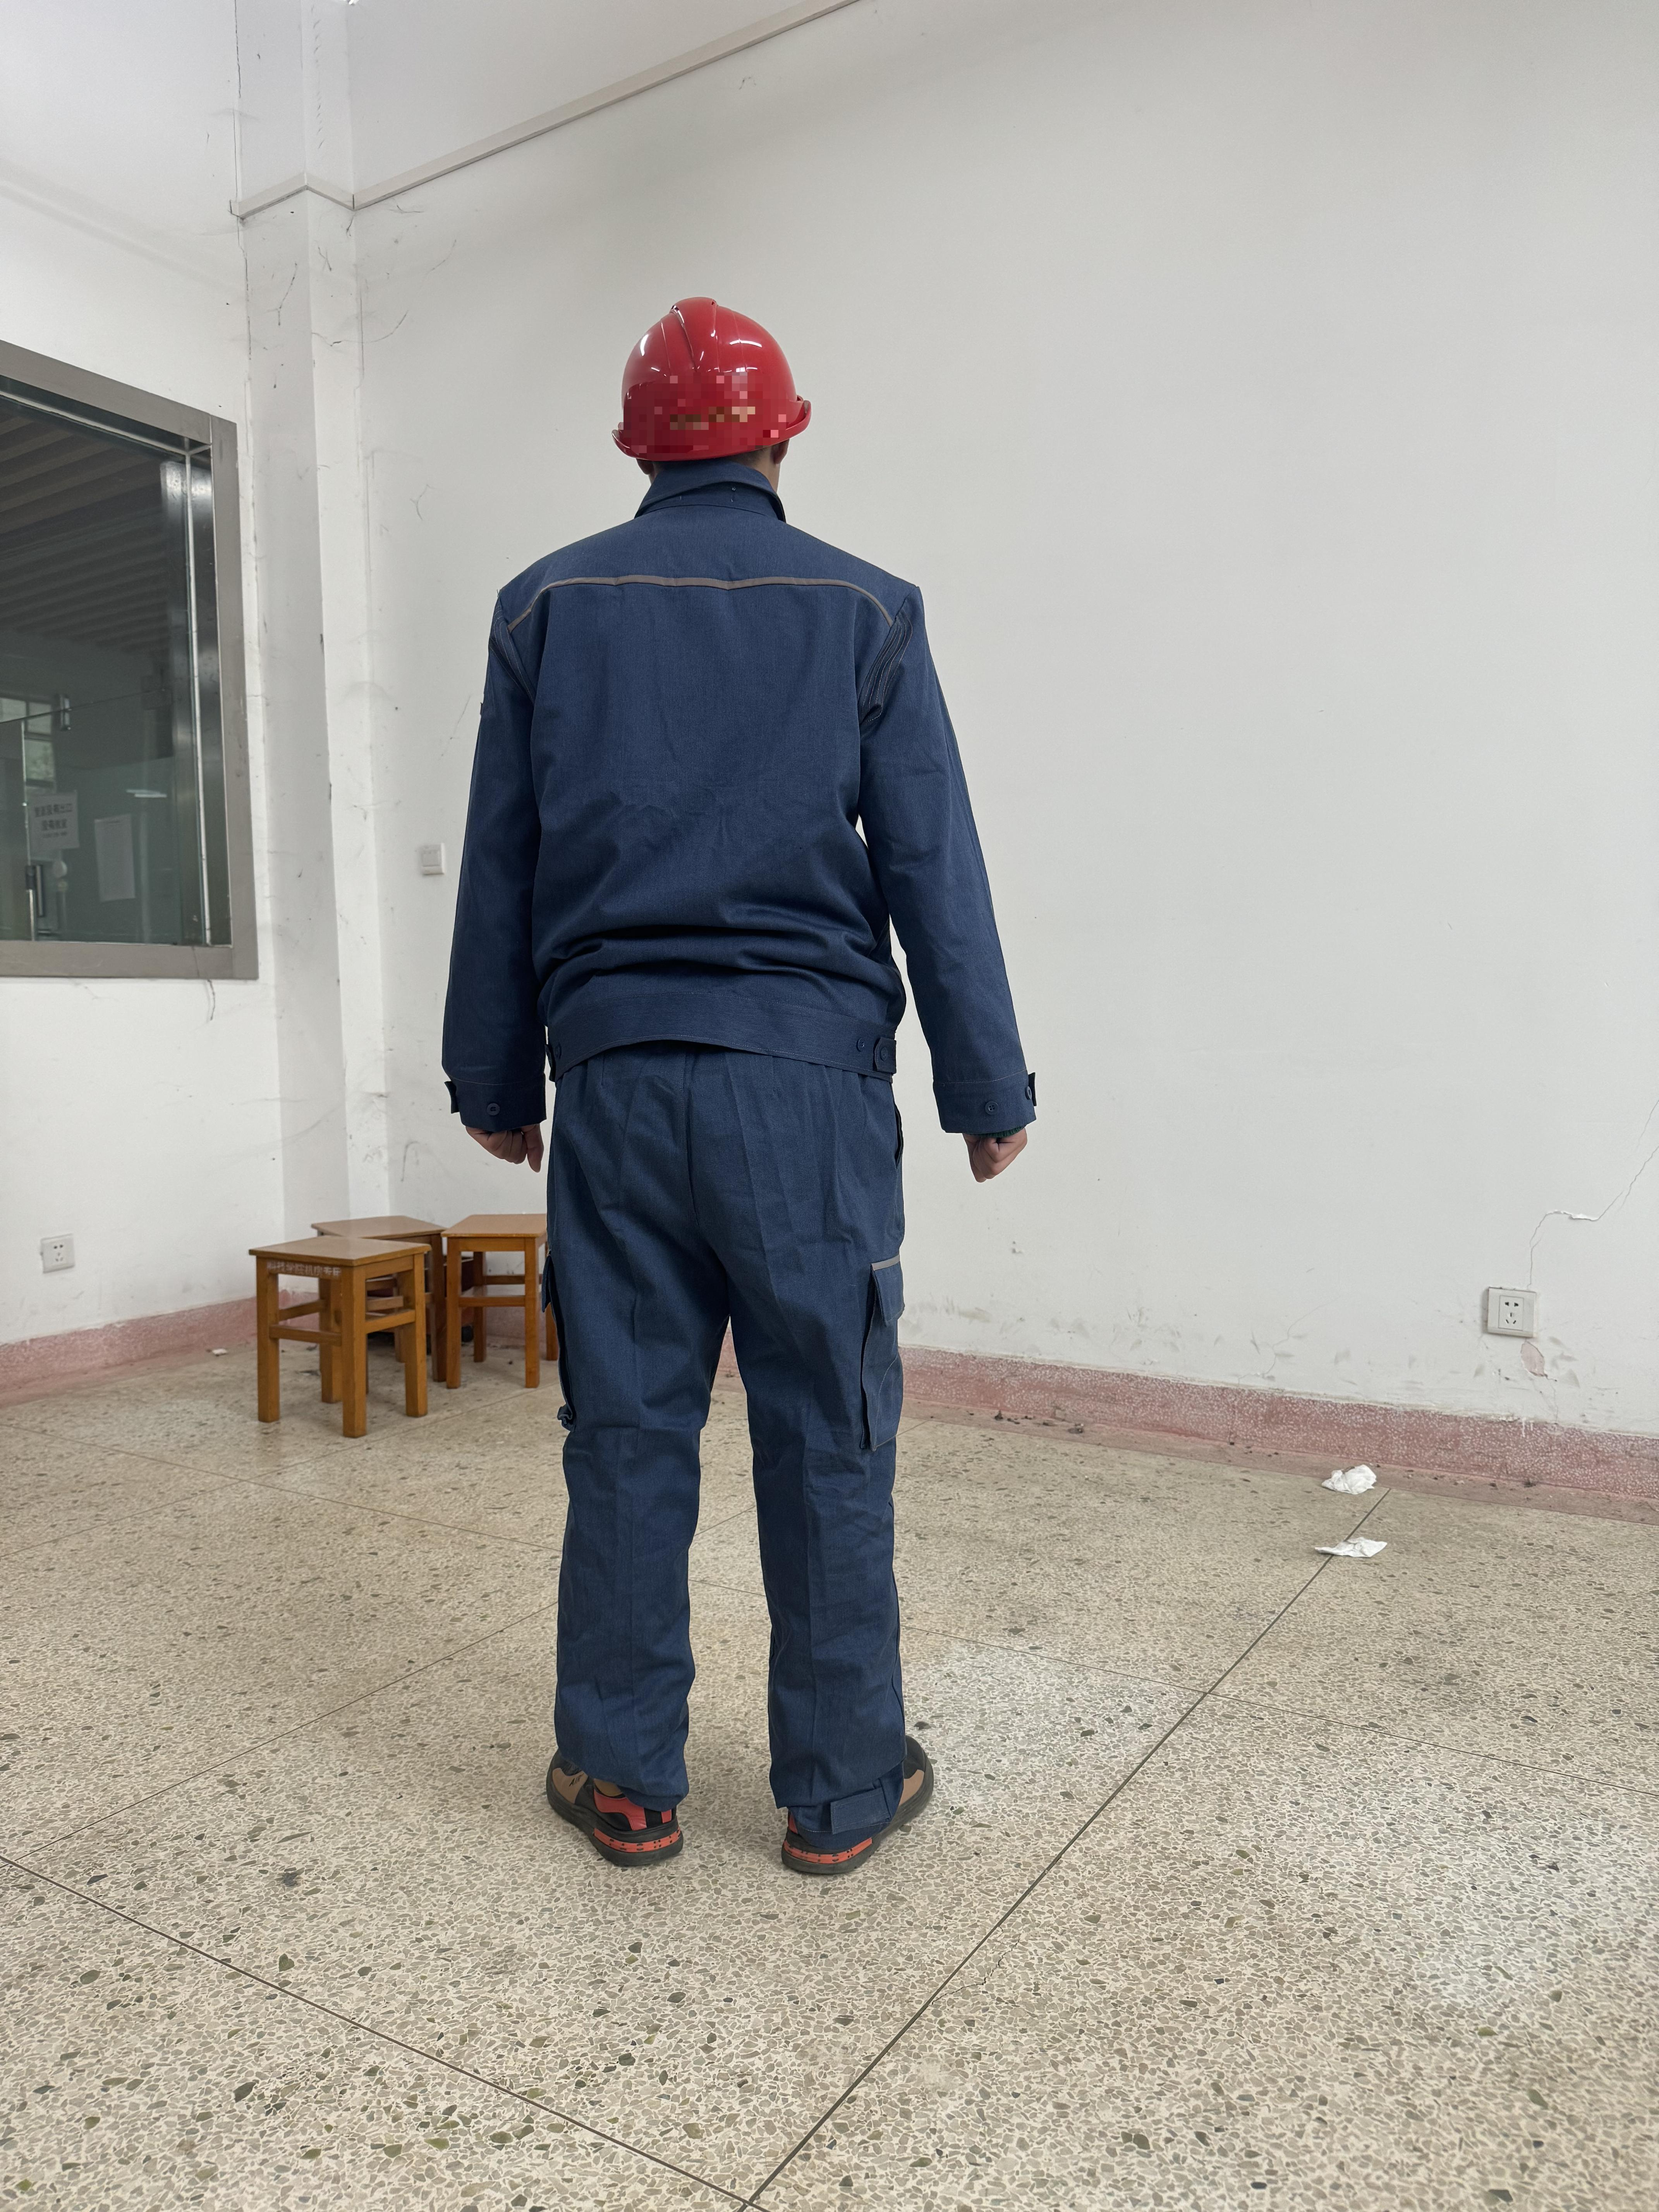halt: (601, 289, 819, 521)
